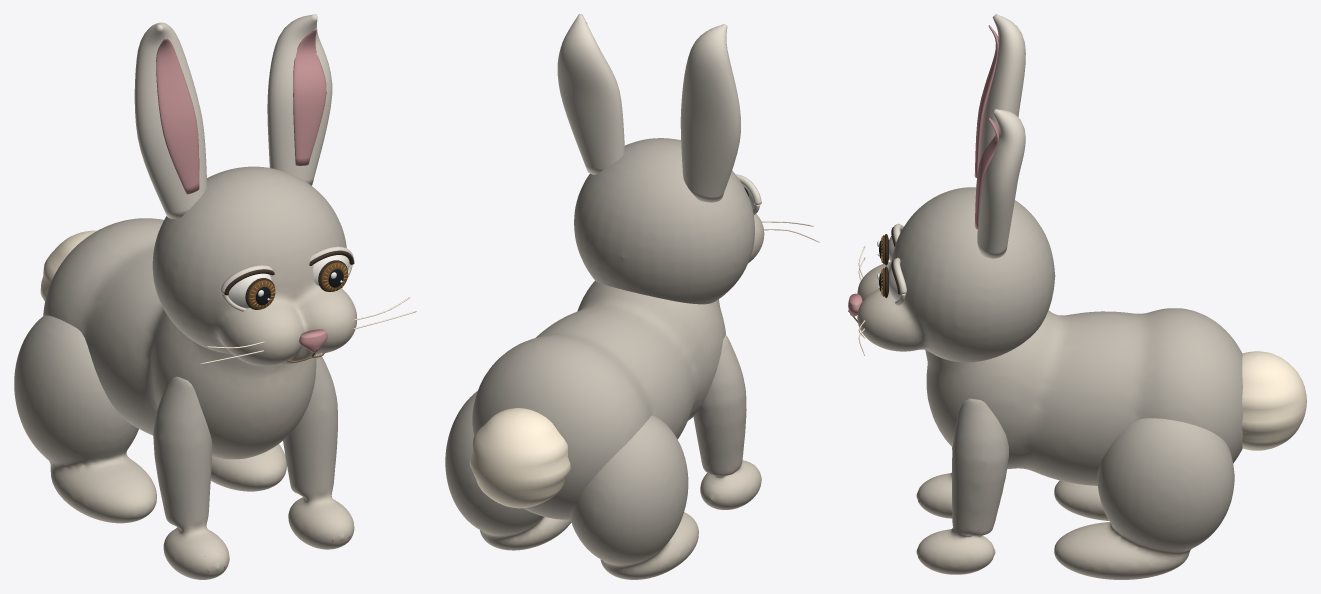
The model's file is rabbit.glb.
3 renders of one model, left to right at view 1: azimuth 30°, elevation 25°; view 2: azimuth 150°, elevation 25°; view 3: azimuth 270°, elevation 25°, orthographic. The views are drawn at different scales.
Parts seen in each view (by area): view 1: rabbit organic body, rabbit continuous face, rabbit leg and paw.001, rabbit leg and paw, rabbit leg and paw.002, Long soft ear, Long soft ear.001, Inner ear, Inner ear.001, rabbit leg and paw.003, Rabbit cotton tail, Almond eye.004; view 2: rabbit organic body, rabbit continuous face, rabbit leg and paw.001, Long soft ear, Rabbit cotton tail, Long soft ear.001, rabbit leg and paw, rabbit leg and paw.003; view 3: rabbit organic body, rabbit continuous face, rabbit leg and paw.003, rabbit leg and paw.002, Rabbit cotton tail, Long soft ear.001, Long soft ear, rabbit leg and paw.001, rabbit leg and paw, Inner ear, Inner ear.001.
Part boxes in pixels (x1,y1,x2,y2): rabbit organic body: [43, 218, 316, 459]; rabbit continuous face: [152, 166, 356, 366]; rabbit leg and paw.001: [14, 315, 156, 523]; rabbit leg and paw: [153, 376, 229, 579]; rabbit leg and paw.002: [283, 353, 354, 549]; Long soft ear: [134, 22, 207, 218]; Long soft ear.001: [267, 14, 332, 185]; Inner ear: [156, 37, 199, 194]; Inner ear.001: [293, 28, 326, 165]; rabbit leg and paw.003: [210, 444, 286, 491]; Rabbit cotton tail: [40, 230, 96, 301]; Almond eye.004: [228, 273, 271, 308]; rabbit organic body: [472, 281, 725, 519]; rabbit continuous face: [574, 138, 764, 304]; rabbit leg and paw.001: [570, 415, 698, 579]; Long soft ear: [680, 24, 740, 202]; Rabbit cotton tail: [469, 408, 570, 508]; Long soft ear.001: [557, 14, 624, 174]; rabbit leg and paw: [693, 335, 761, 509]; rabbit leg and paw.003: [445, 391, 571, 550]; rabbit organic body: [925, 308, 1242, 485]; rabbit continuous face: [857, 187, 1055, 362]; rabbit leg and paw.003: [1054, 418, 1234, 579]; rabbit leg and paw.002: [916, 398, 1008, 574]; Rabbit cotton tail: [1241, 351, 1306, 450]; Long soft ear.001: [977, 109, 1025, 258]; Long soft ear: [980, 14, 1025, 160]; rabbit leg and paw.001: [1054, 480, 1108, 520]; rabbit leg and paw: [916, 447, 952, 518]; Inner ear: [974, 25, 998, 177]; Inner ear.001: [974, 117, 998, 229].
Size of the model in its own units: 0.9164 by 1.98 by 1.66.
